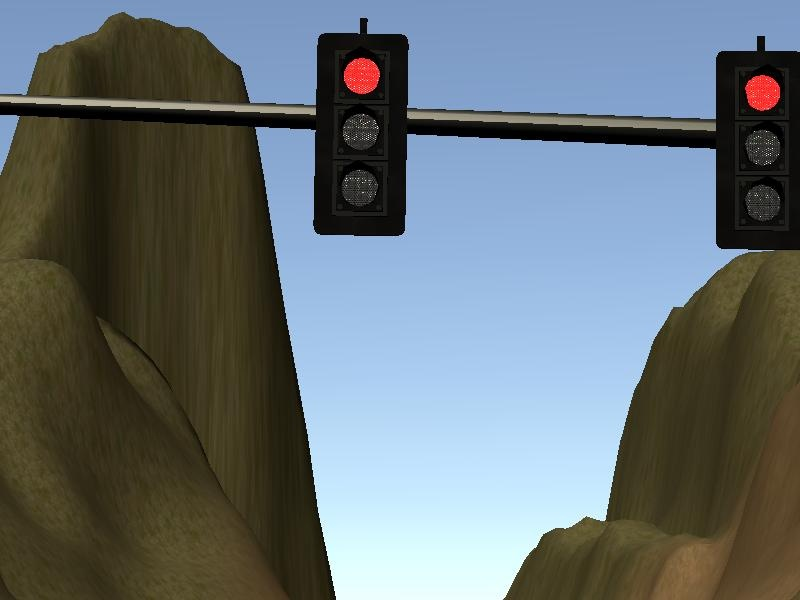RED: (314, 32, 407, 238), (709, 49, 800, 251)
